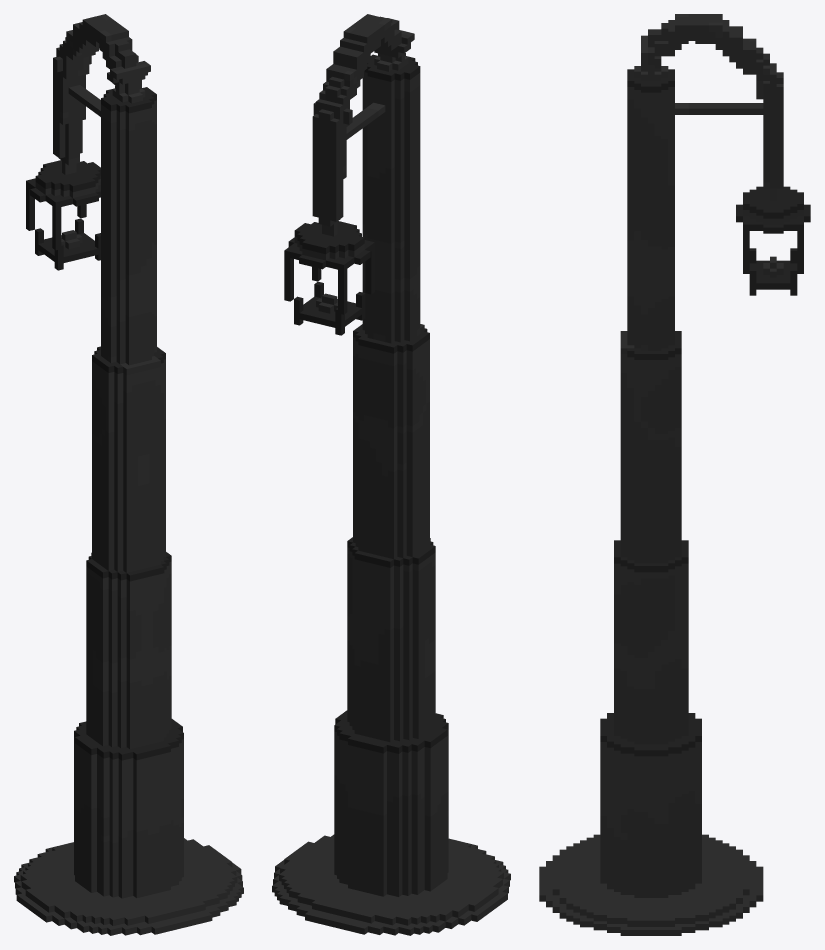
File: street flashlight.glb
3 renders of one model, left to right at view 1: azimuth 30°, elevation 25°; view 2: azimuth 150°, elevation 25°; view 3: azimuth 270°, elevation 25°, orthographic. The views are drawn at different scales.
Visible parts, largest first — view 1: flashlight; view 2: flashlight; view 3: flashlight.
Part boxes in pixels (<box>): flashlight: <box>14,14,243,935</box>; flashlight: <box>272,14,510,935</box>; flashlight: <box>539,14,810,935</box>.
Bounding box in the file's own units: 3.4 × 14.1 × 4.
Materials: 1 (1 with a texture image).
